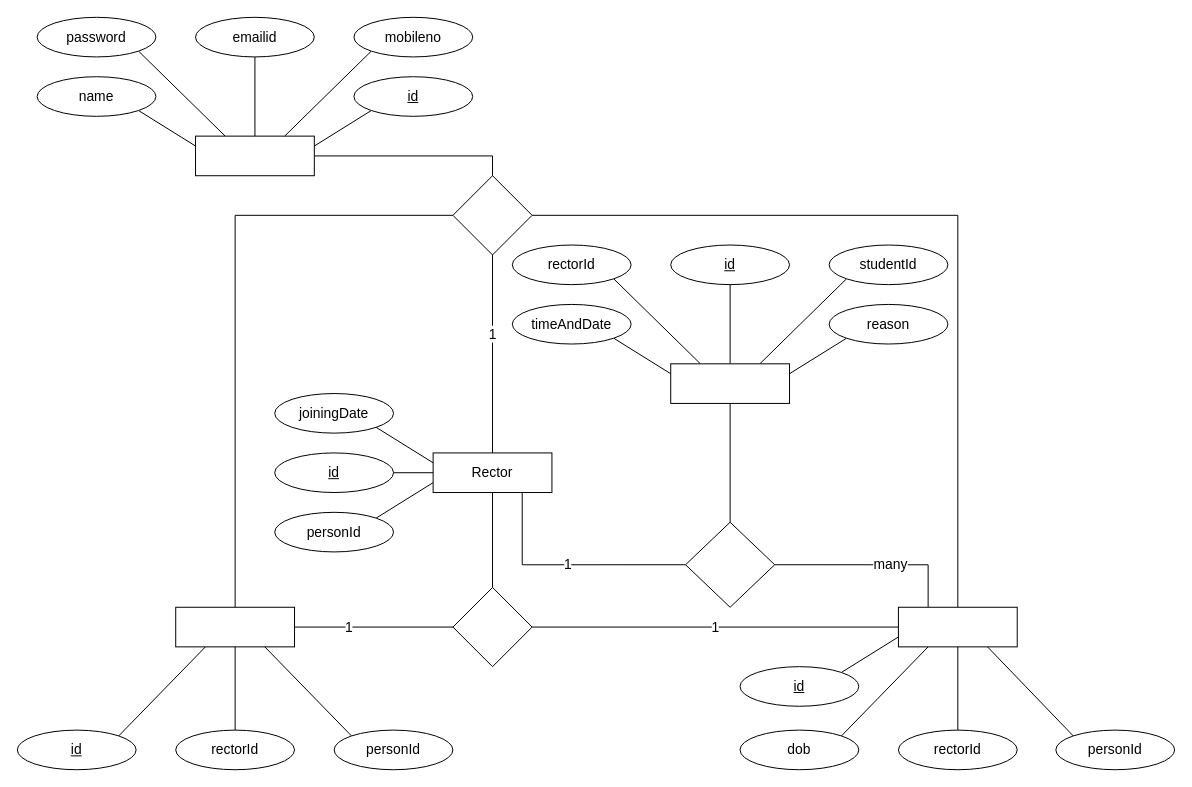
This 1192x787 diagram has some shape labels left out. The shapes that lost their labels are listed below. From the top down, each one's box as (x1, y1, x2, y2) in pixels, then its label:
(195, 135, 314, 176): Person
(452, 175, 532, 255): is
(670, 363, 790, 403): Gatepass
(685, 521, 775, 607): issues/generate
(175, 606, 295, 647): Gatekeeper
(452, 586, 532, 667): manages
(897, 606, 1017, 647): Student
